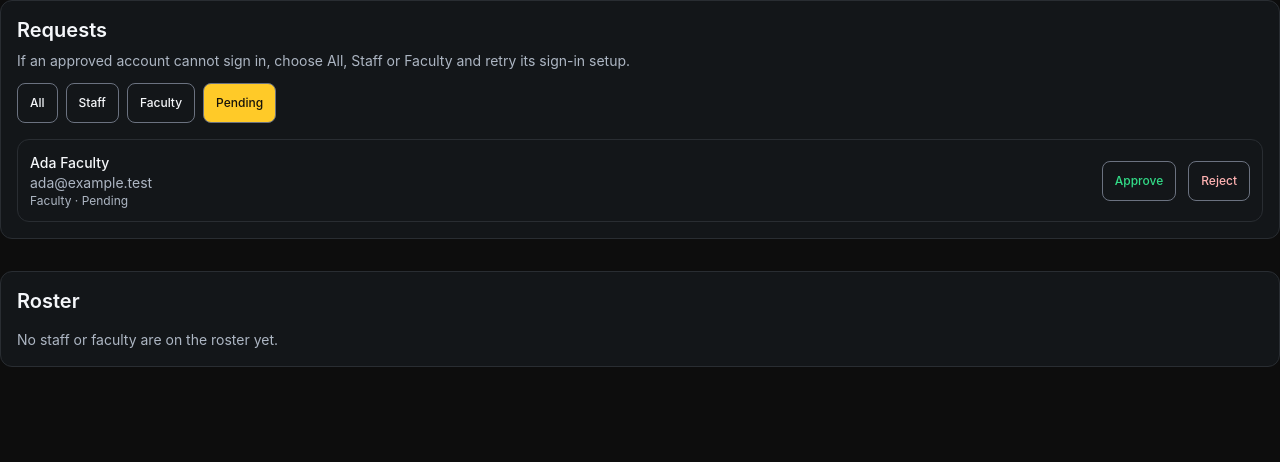
Test case: StaffFacultyManager › waits for server approval and reloads instead of changing optimistically
The image size is (1280, 462).
Click the button "Approve".
click(1139, 180)  # box [1102,160,1176,200]
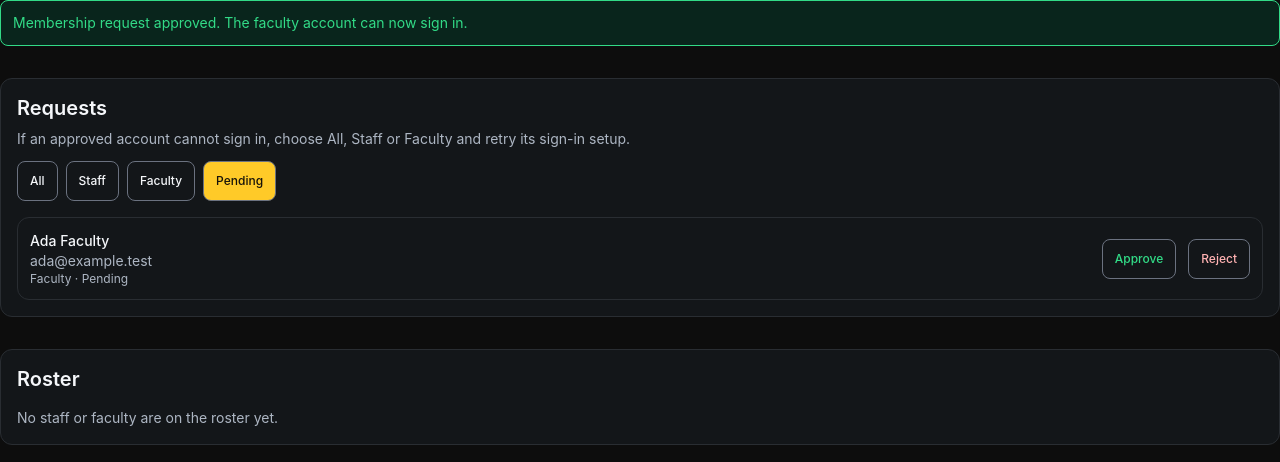
Expected: the text "Membership request approved. The faculty account can now sign in." is shown, [0,0,1279,46]
